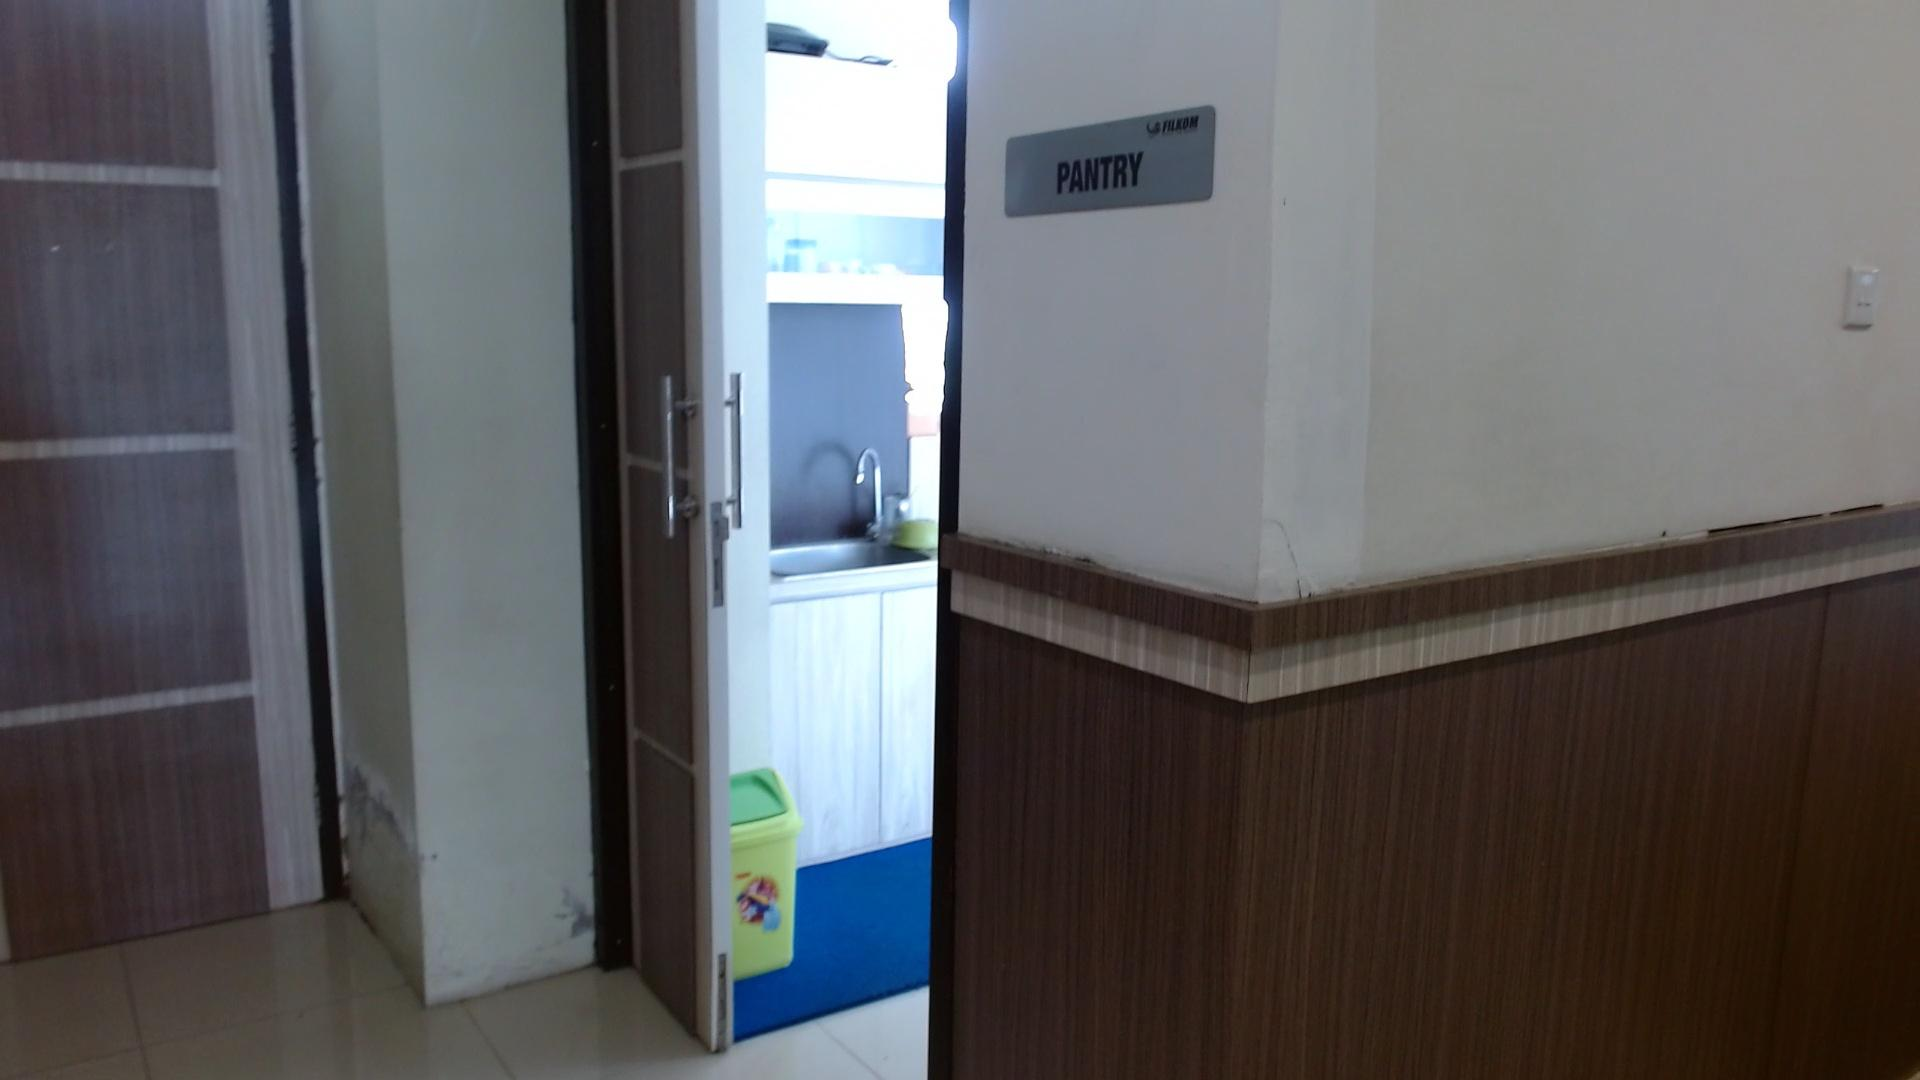plate: (1004, 105, 1215, 220)
